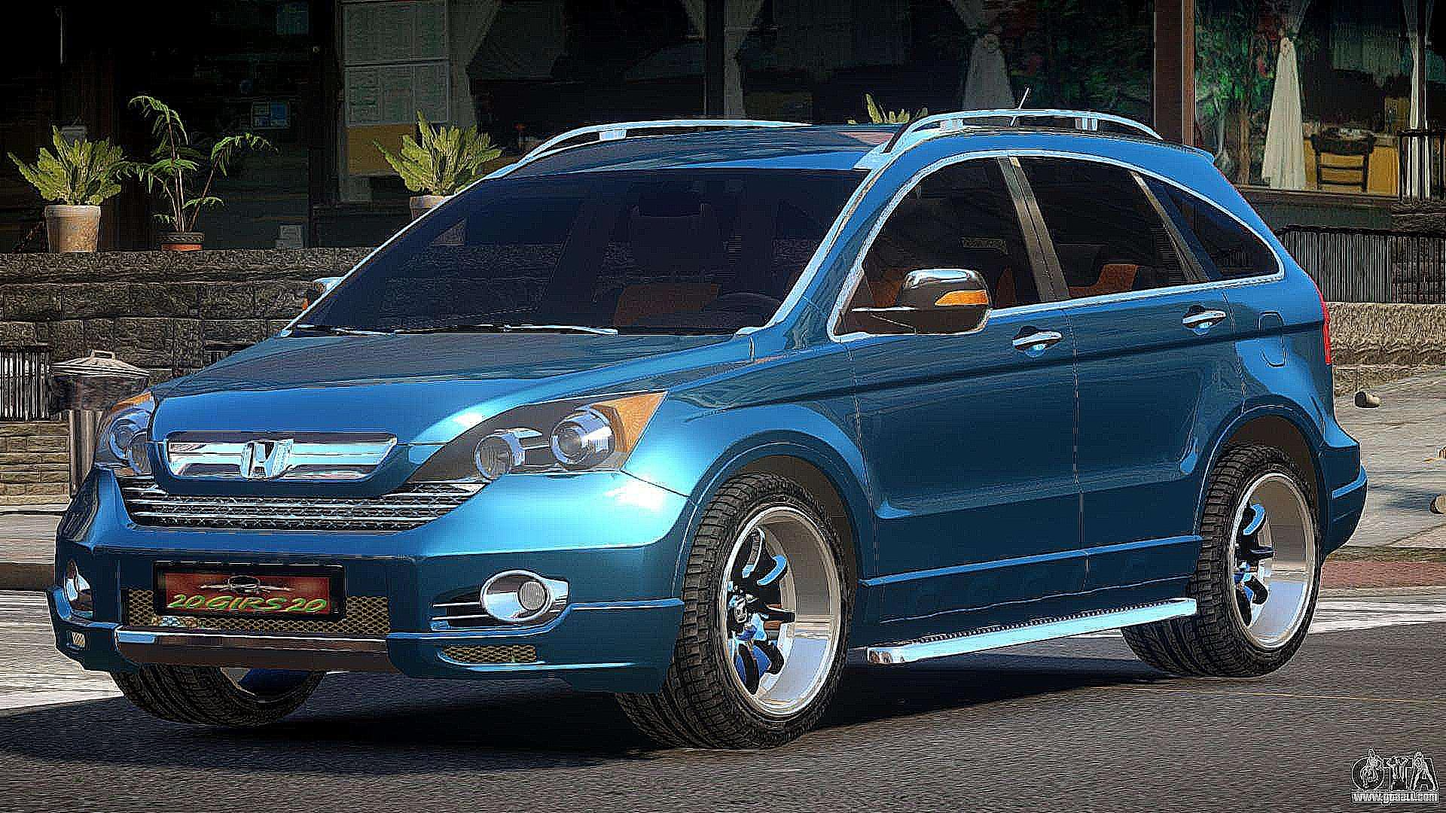Car hood: (150, 327, 758, 448)
Fender - -R-L-: (1216, 261, 1341, 457)
Front bumper: (49, 475, 699, 695)
Headlight - -L-: (411, 386, 674, 490)
Headlight - -R-: (89, 381, 173, 487)
Passenger-s door - -F-L-: (859, 136, 1081, 630)
Passenger-s door - -R-L-: (1050, 137, 1249, 609)
Rear bumper: (1309, 383, 1381, 578)
Rear light - -L-: (1297, 262, 1347, 368)
Side bumper - -L-: (620, 296, 882, 664), (835, 523, 1221, 673)
Side mirror - -L-: (869, 252, 992, 348)
Side mirror - -R-: (295, 252, 353, 307)
